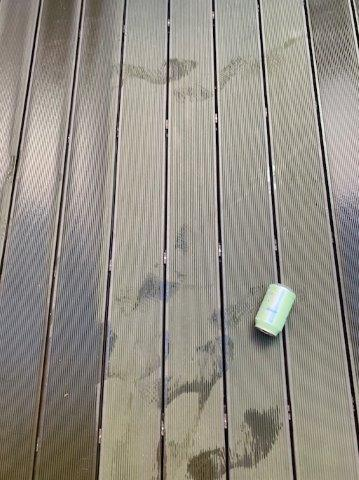kaleng: (255, 283, 297, 337)
